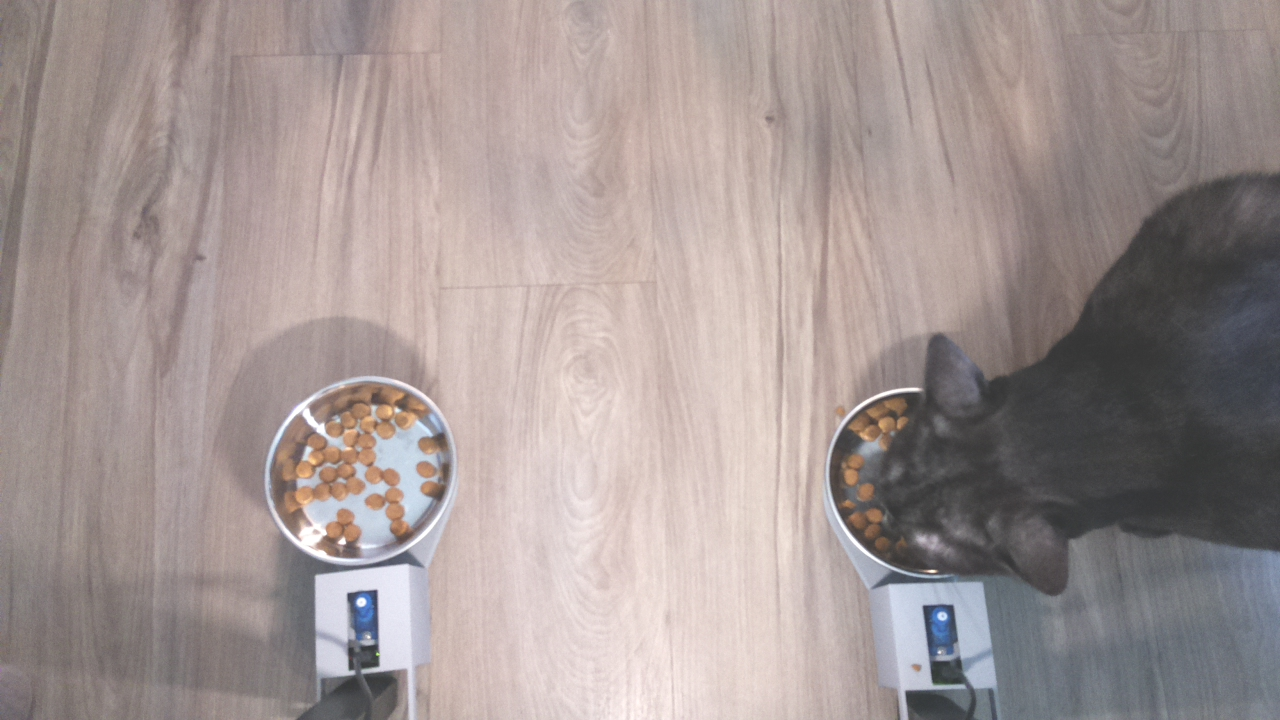open_bowl: (257, 372, 462, 572)
saki_eating: (830, 323, 1083, 604)
